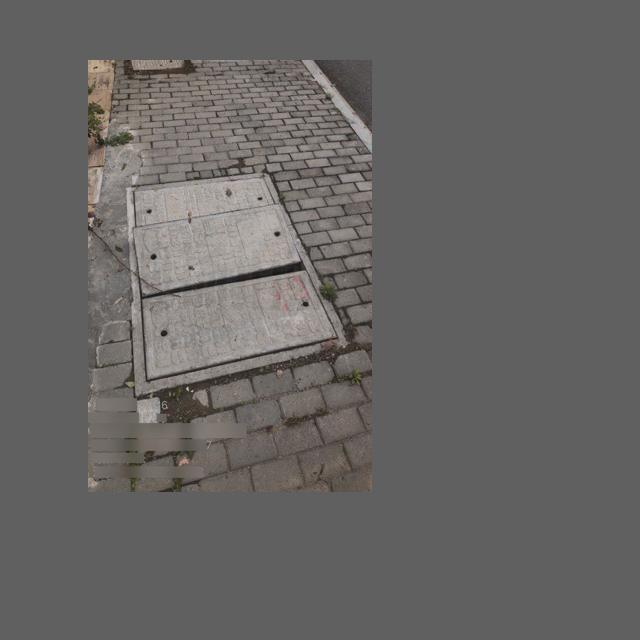uncovered: (126, 173, 348, 396)
